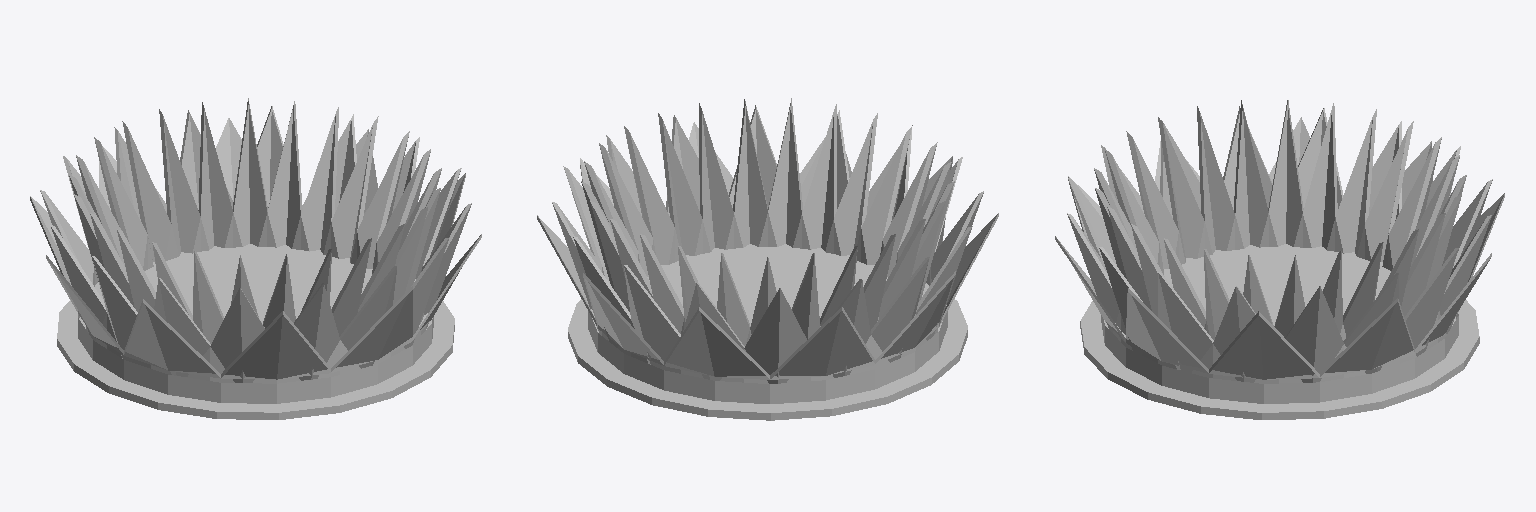
File: portal_abrir_000037.obj
3 views of the same model, side by side, from view 1: azimuth 30°, elevation 25°; view 2: azimuth 150°, elevation 25°; view 3: azimuth 270°, elevation 25° (orthographic).
Visible parts, largest first — view 1: Cylinder.001, pCylinder1, Cylinder; view 2: Cylinder.001, pCylinder1, Cylinder; view 3: Cylinder.001, pCylinder1, Cylinder.
Boxes of the visible parts, <box> form: Cylinder.001: <box>69,98,441,343</box>; pCylinder1: <box>30,118,481,419</box>; Cylinder: <box>40,106,471,383</box>; Cylinder.001: <box>581,98,954,345</box>; pCylinder1: <box>537,122,998,420</box>; Cylinder: <box>552,105,983,383</box>; Cylinder.001: <box>1094,100,1466,340</box>; pCylinder1: <box>1055,117,1504,419</box>; Cylinder: <box>1067,106,1492,383</box>.
Size of the model in its own units: 6.67 by 2.56 by 6.53.